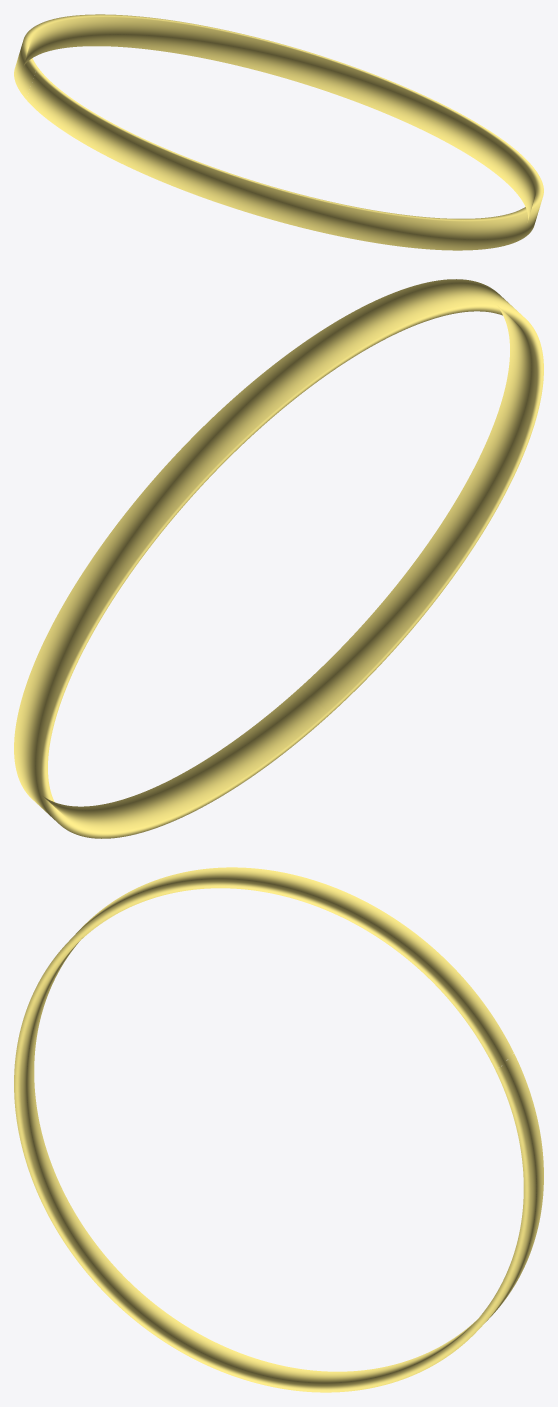
File: coil_coil_3_tube.gltf
3 views of the same model, one above another, from view 1: azimuth 30°, elevation 25°; view 2: azimuth 150°, elevation 25°; view 3: azimuth 270°, elevation 25° (orthographic). The views are drawn at different scales.
Visible parts, largest first — view 1: Renderer Node; view 2: Renderer Node; view 3: Renderer Node.
Boxes of the visible parts, <box> form: Renderer Node: <box>14,14,543,250</box>; Renderer Node: <box>14,279,543,838</box>; Renderer Node: <box>14,867,543,1392</box>.
Bounding box in the file's own units: 0.5255 × 0.4428 × 0.5709.
